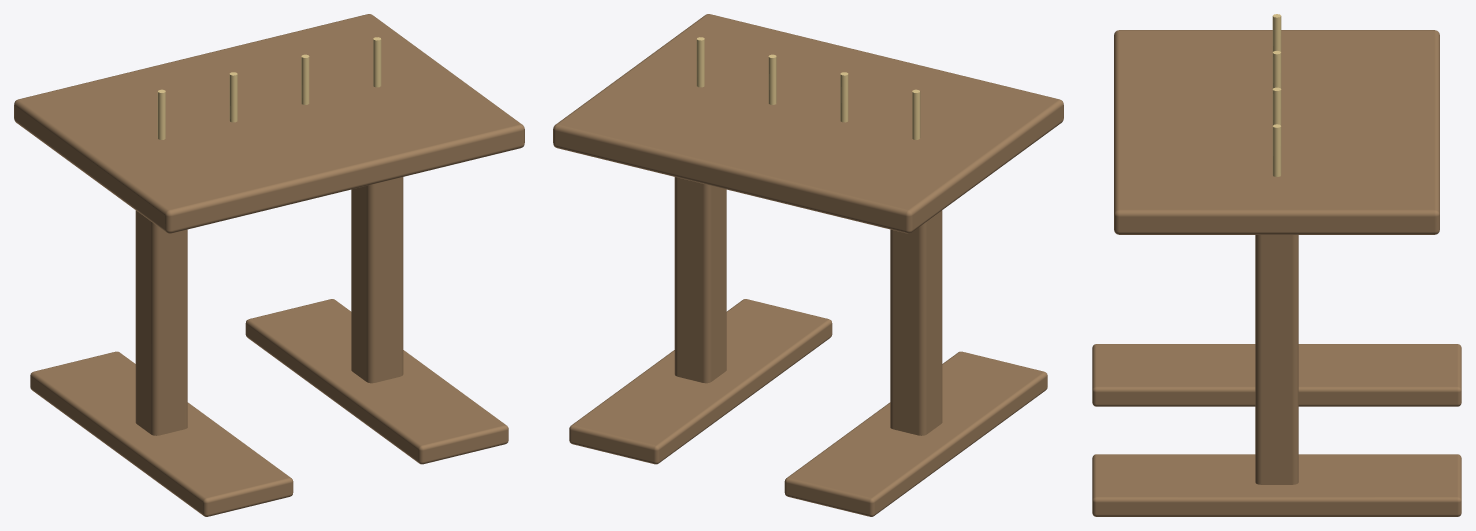
File: marquetry-and-veneer-inlay-workshop-packet-registratio-3c787caa__39095.glb
The picture shows the model from 3 angles, left to right: view 1: azimuth 30°, elevation 25°; view 2: azimuth 150°, elevation 25°; view 3: azimuth 270°, elevation 25°; orthographic projection. The views are drawn at different scales.
Parts seen in each view (by area): view 1: packet-registration-pin-board; view 2: packet-registration-pin-board; view 3: packet-registration-pin-board.
Part boxes in pixels (x1=…): packet-registration-pin-board: x1=14, y1=14, x2=524, y2=516; packet-registration-pin-board: x1=553, y1=14, x2=1063, y2=516; packet-registration-pin-board: x1=1092, y1=14, x2=1461, y2=516.
Size of the model in its own units: 0.4 by 0.375 by 0.34.
